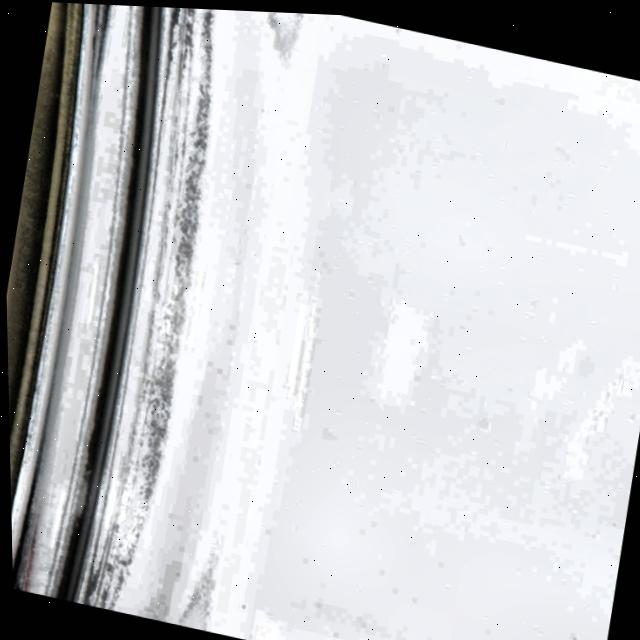glass: (9, 3, 640, 640)
